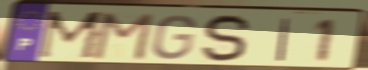1: (312, 18, 337, 63)
G: (150, 14, 199, 61)
I: (274, 17, 293, 63)
M: (35, 10, 108, 61), (89, 12, 157, 62)
S: (200, 13, 253, 65)
